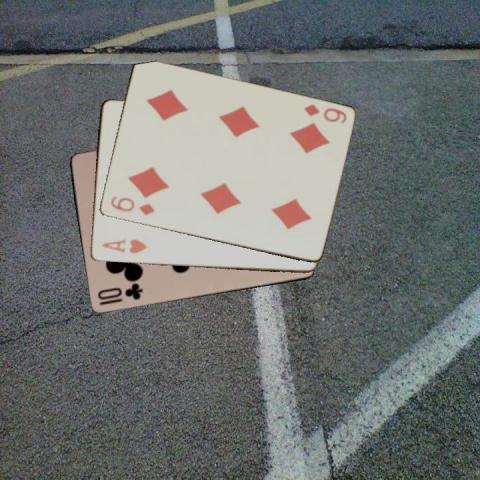10c: (94, 281, 144, 307)
6d: (107, 193, 156, 218), (301, 100, 348, 125)
Ah: (98, 236, 148, 255)
